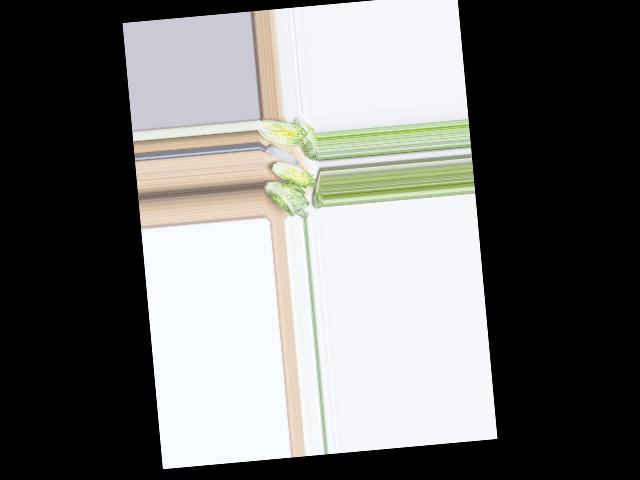lettuce: (294, 117, 317, 161)
